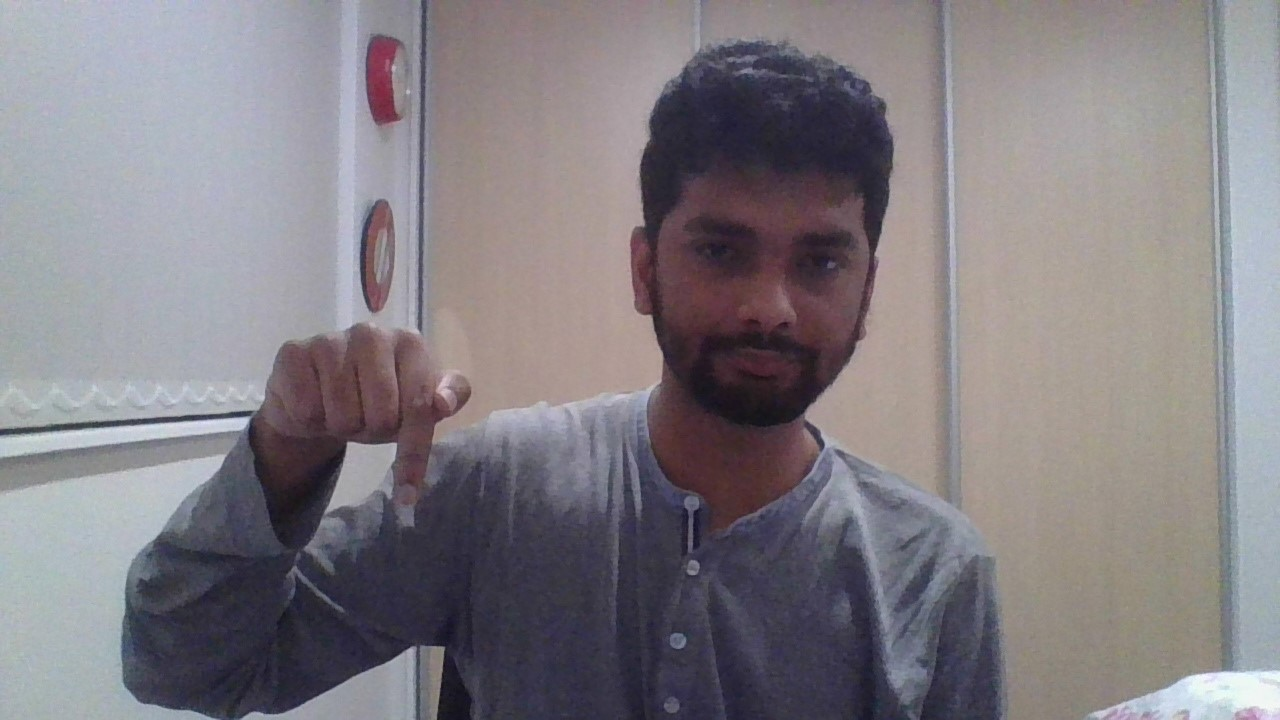below: (261, 322, 469, 509)
